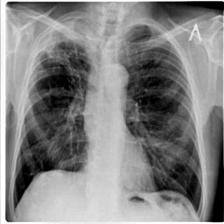tuberculosis: (7, 22, 206, 217)
